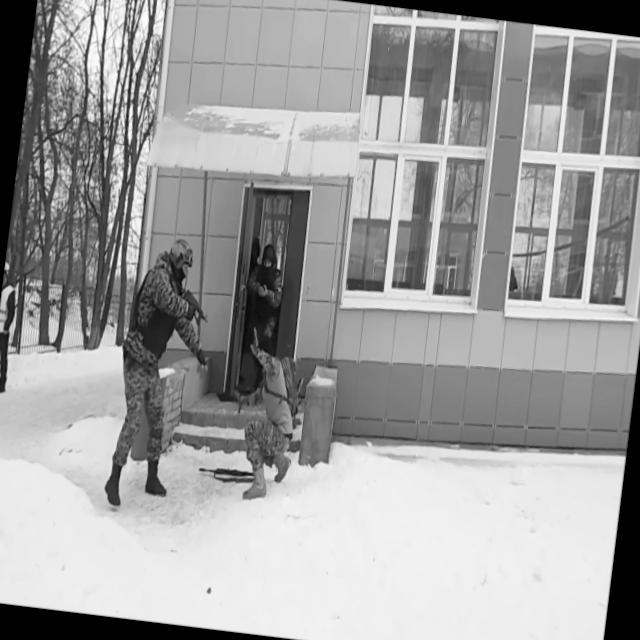gun: (162, 275, 213, 329), (196, 460, 262, 490)
person: (229, 325, 307, 505), (235, 240, 288, 392), (0, 267, 20, 396)
person with a gun: (102, 230, 225, 514)
